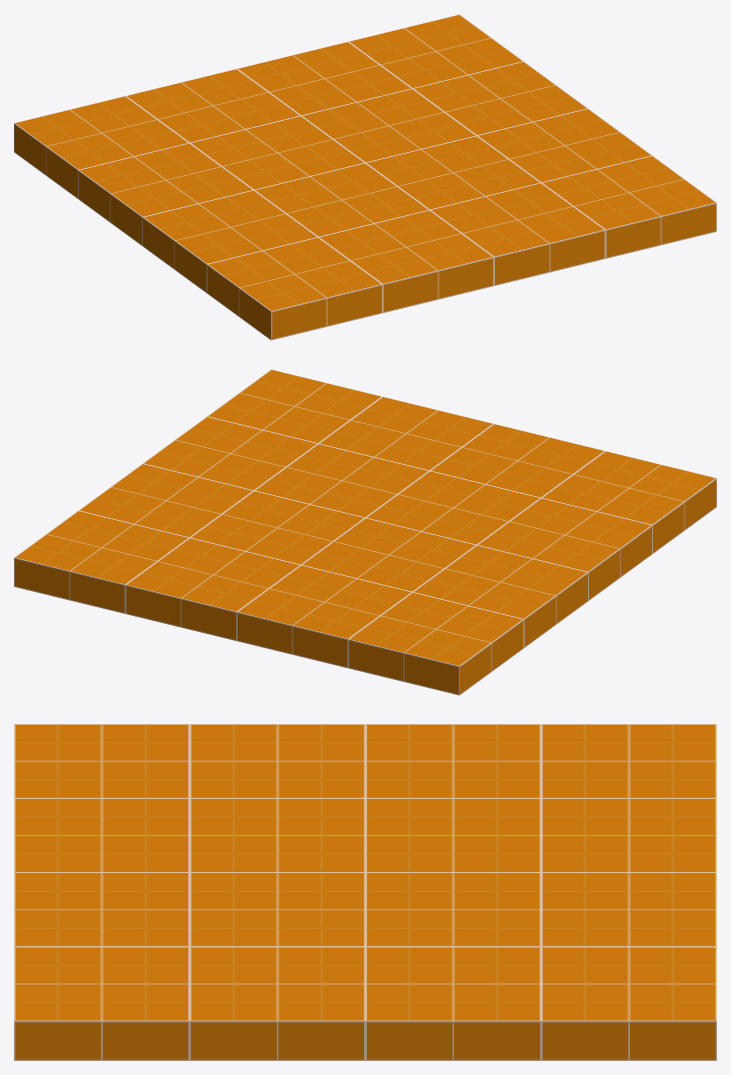
File: Plate4_4x4.obj
3 views of the same model, one above another, from view 1: azimuth 30°, elevation 25°; view 2: azimuth 150°, elevation 25°; view 3: azimuth 270°, elevation 25° (orthographic). The views are drawn at different scales.
Parts seen in each view (by area): view 1: Plate4_4x4_Cube.341; view 2: Plate4_4x4_Cube.341; view 3: Plate4_4x4_Cube.341.
Part boxes in pixels (x1=…): Plate4_4x4_Cube.341: x1=14, y1=14, x2=716, y2=340; Plate4_4x4_Cube.341: x1=14, y1=369, x2=716, y2=695; Plate4_4x4_Cube.341: x1=14, y1=724, x2=716, y2=1060.
Size of the model in its own units: 4 by 0.25 by 4.
1 material, 1 textured.
